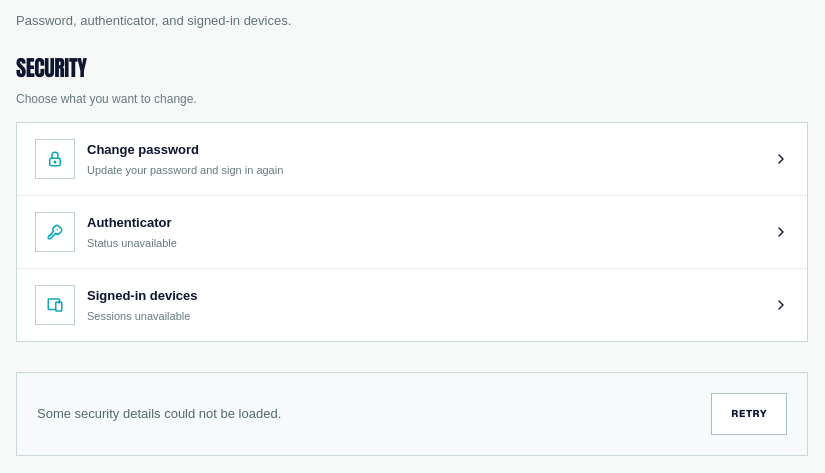
security data states › does not label loading or unavailable settings as Off or zero sessions, and retries
Expected: the text "Some security details could not be loaded." is shown, [37,404,281,424]
Expected: the text "Status unavailable" is shown, [87,237,177,249]
Click the button "Retry": (749, 414) [711,393,787,435]
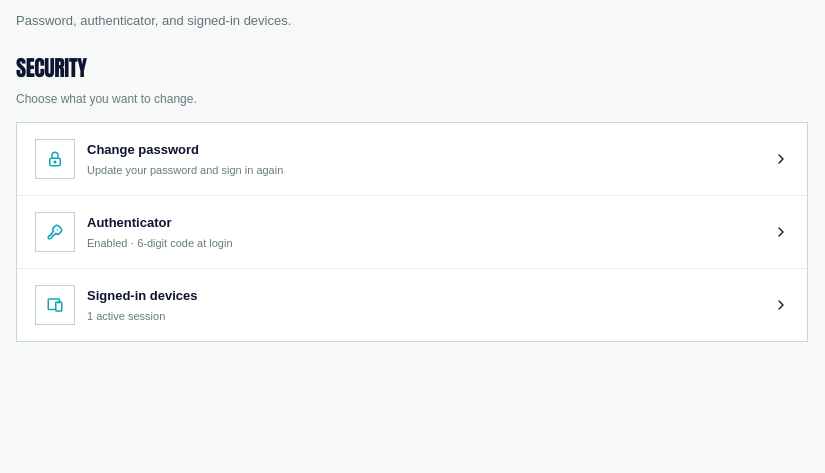
Expected: the text "Enabled · 6-digit code at login" is shown, [87,237,232,249]
Expected: the text "1 active session" is shown, [87,310,165,322]
